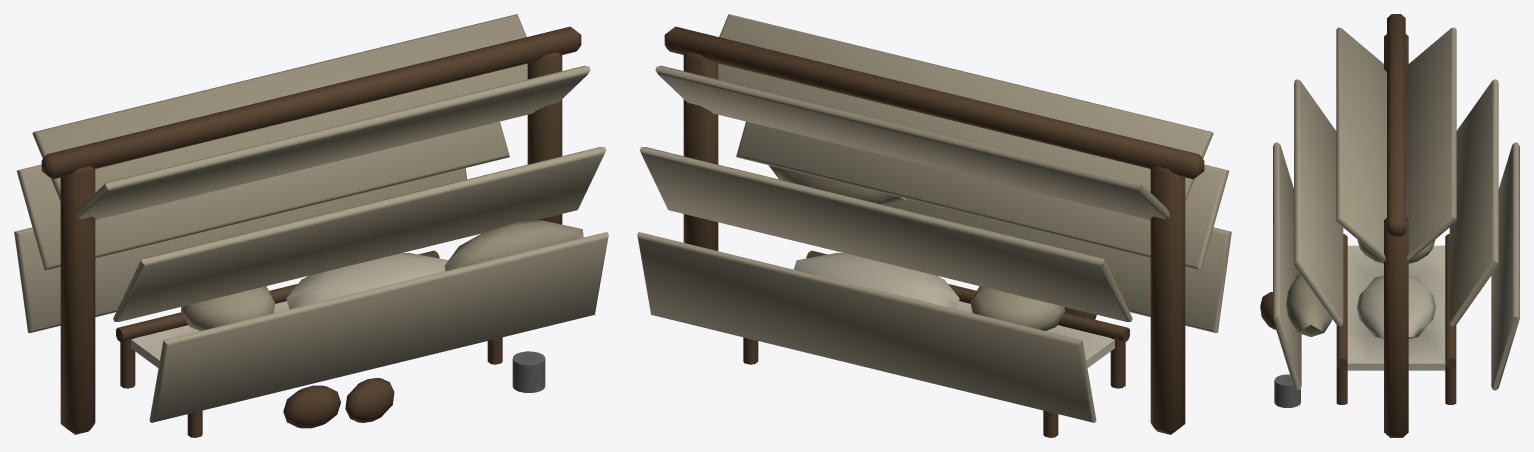
Rendered from bunk_cots_a.glb.
3 views of the same model, side by side, from view 1: azimuth 30°, elevation 25°; view 2: azimuth 150°, elevation 25°; view 3: azimuth 270°, elevation 25° (orthographic). The views are drawn at different scales.
Parts seen in each view (by area): view 1: Surface; view 2: Surface; view 3: Surface.
Boxes of the visible parts, x1,y1,x2,y2 form: Surface: (14,14,608,437); Surface: (637,14,1231,437); Surface: (1260,14,1519,437).
Bounding box in the file's own units: 3.2 × 1.61 × 1.67.
